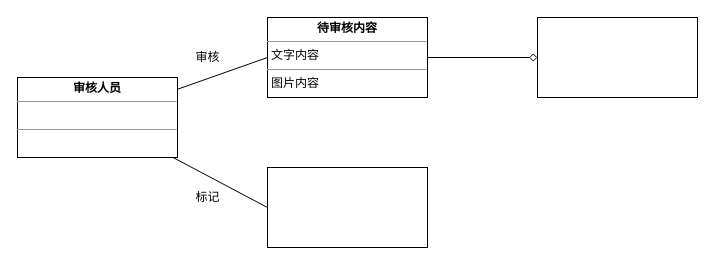
Image size: 715x265. Some labels were removed from this diagram. The box of each missing label's shape, as (x1, y1, x2, y2) in pixels:
审核标准列表 审核标准 是否通过: (266, 166, 428, 248)
待审核内容清单: (536, 16, 698, 98)
